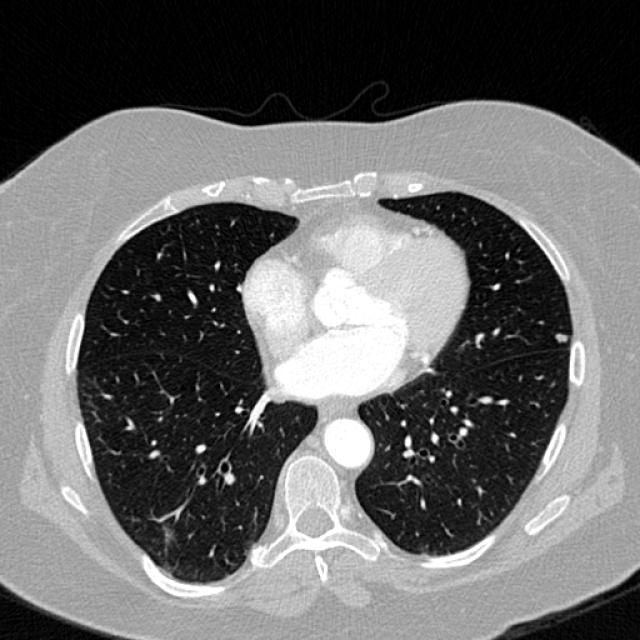nodule: (548, 324, 572, 348)
